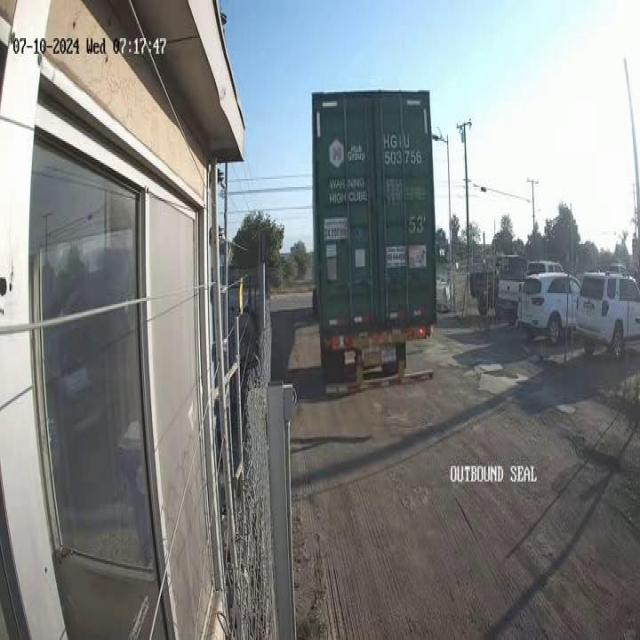TRUCK_OUT: (310, 87, 438, 388)
